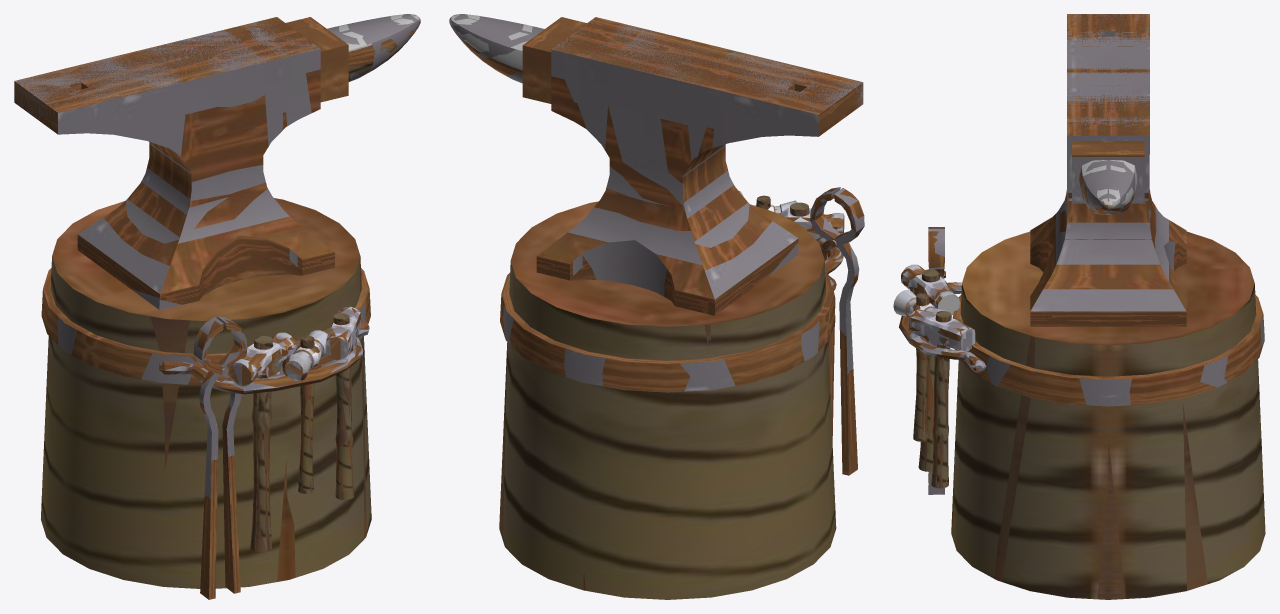
File: anvil.glb
3 views of the same model, side by side, from view 1: azimuth 30°, elevation 25°; view 2: azimuth 150°, elevation 25°; view 3: azimuth 270°, elevation 25° (orthographic). The views are drawn at different scales.
Parts seen in each view (by area): view 1: Anvil_Log_LOD_1k; view 2: Anvil_Log_LOD_1k; view 3: Anvil_Log_LOD_1k.
Boxes of the visible parts, <box> form: Anvil_Log_LOD_1k: <box>14,14,420,599</box>; Anvil_Log_LOD_1k: <box>449,14,864,599</box>; Anvil_Log_LOD_1k: <box>893,14,1265,599</box>.
Size of the model in its own units: 0.6493 by 0.75 by 0.5739.
Materials: 4 (4 with a texture image).
